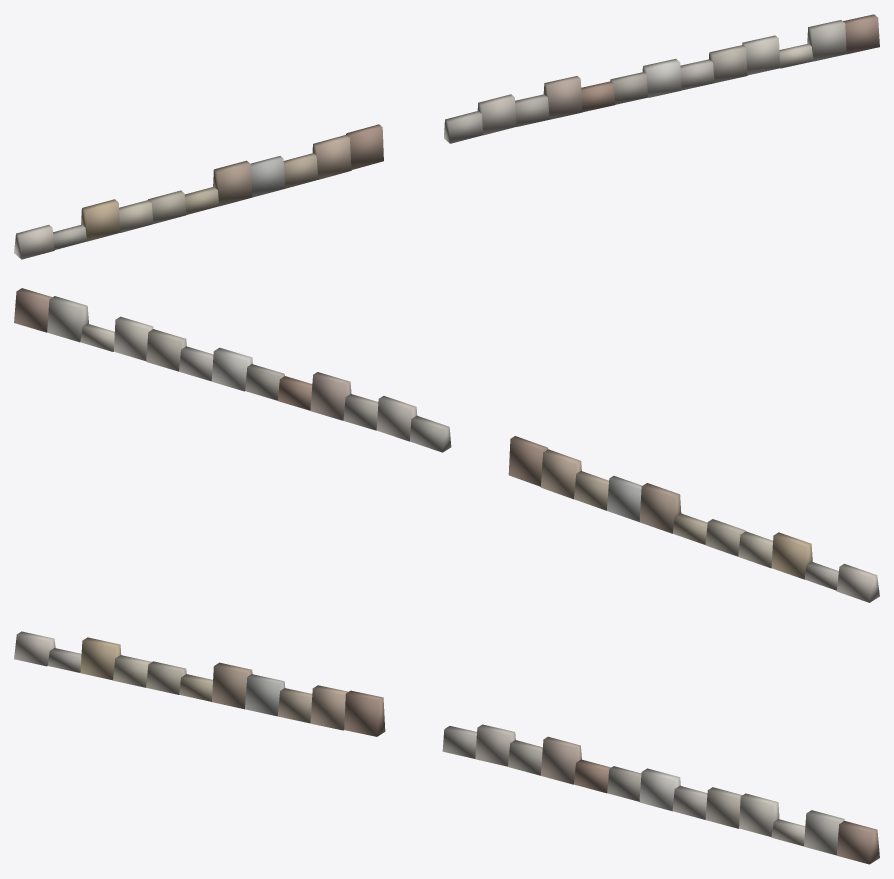
File: farm_-8_10_collision.glb
3 renders of one model, top to bottom at view 1: azimuth 30°, elevation 25°; view 2: azimuth 150°, elevation 25°; view 3: azimuth 330°, elevation 25°, orthographic. The views are drawn at different scales.
Parts seen in each view (by area): view 1: geometry_0; view 2: geometry_0; view 3: geometry_0.
Boxes of the visible parts, x1,y1,x2,y2 form: geometry_0: (14,14,879,259); geometry_0: (14,288,879,602); geometry_0: (14,631,879,864).
Bounding box in the file's own units: 40.83 × 3.01 × 3.5.
